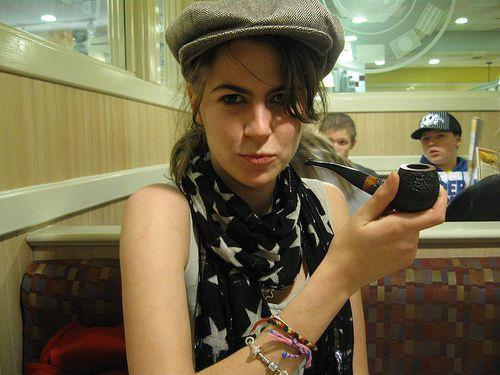trubka: (304, 158, 439, 212)
